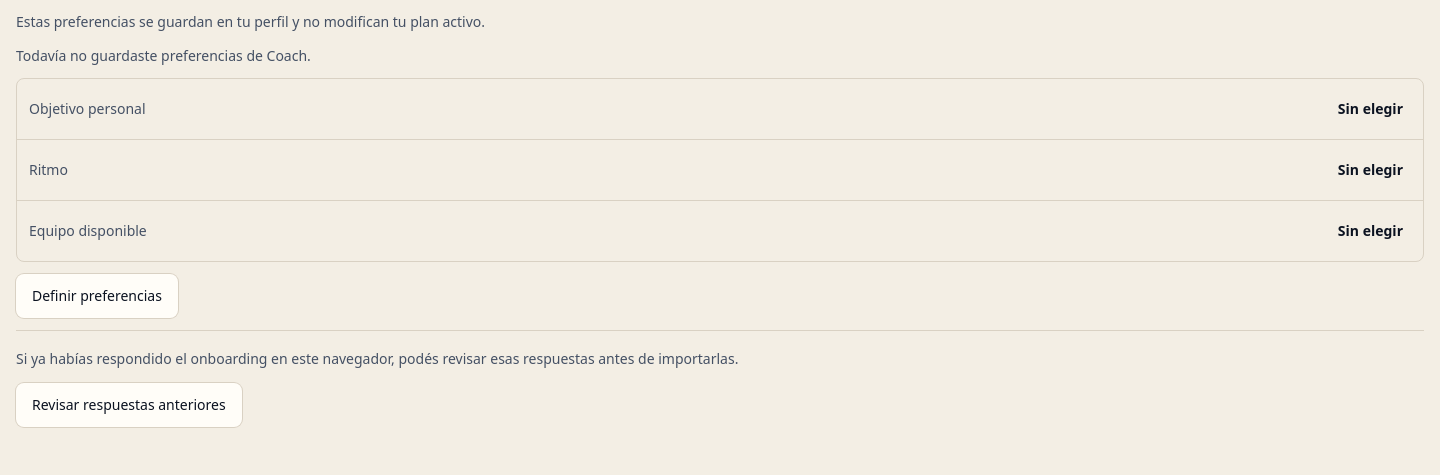
Test case: ProfileCoachContext › reports when legacy answers are absent without attempting an import
Expected: the text "Todavía no guardaste preferencias de Coach." is shown, [16,46,311,65]
Click the button "Revisar respuestas anteriores" at (129, 405), box [16,383,242,427]
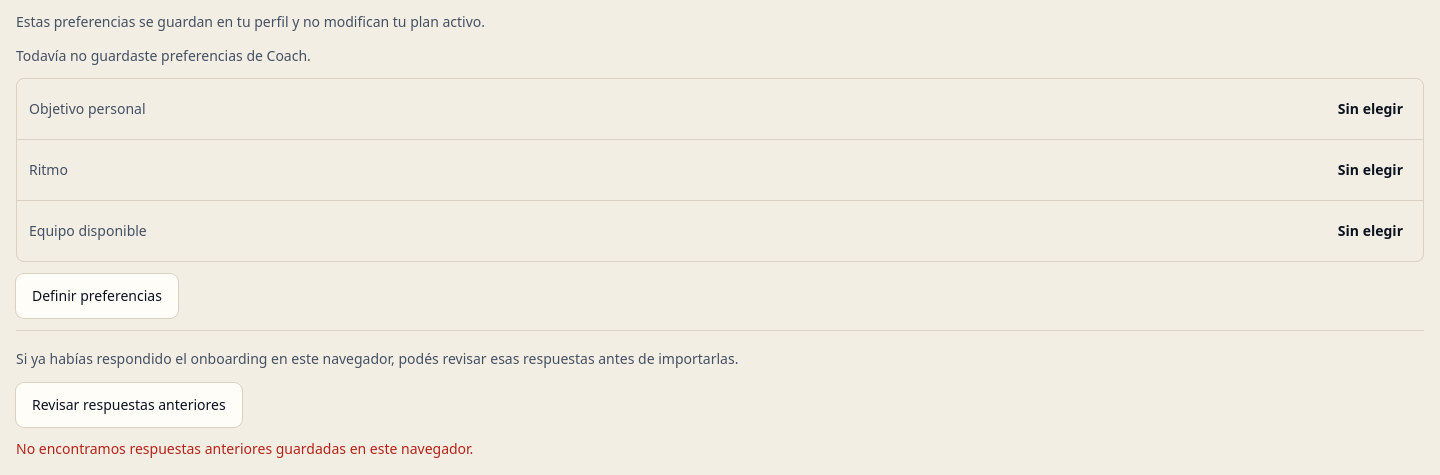
Now the text "No encontramos respuestas anteriores guardadas en este navegador." is shown, box [16,439,473,458]
